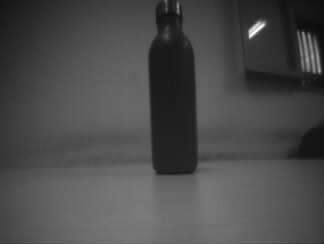Bottle: (147, 1, 197, 174)
